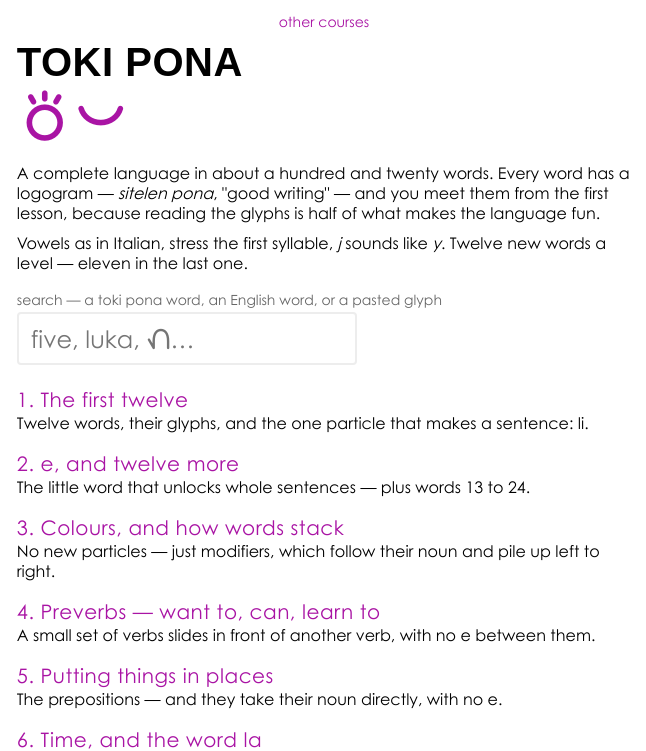
Test: toki pona › the search box finds a word by English gloss ("five" -> luka) and links its lesson
In the field labelled "search": (187, 338) [17,312,357,365], type "five"
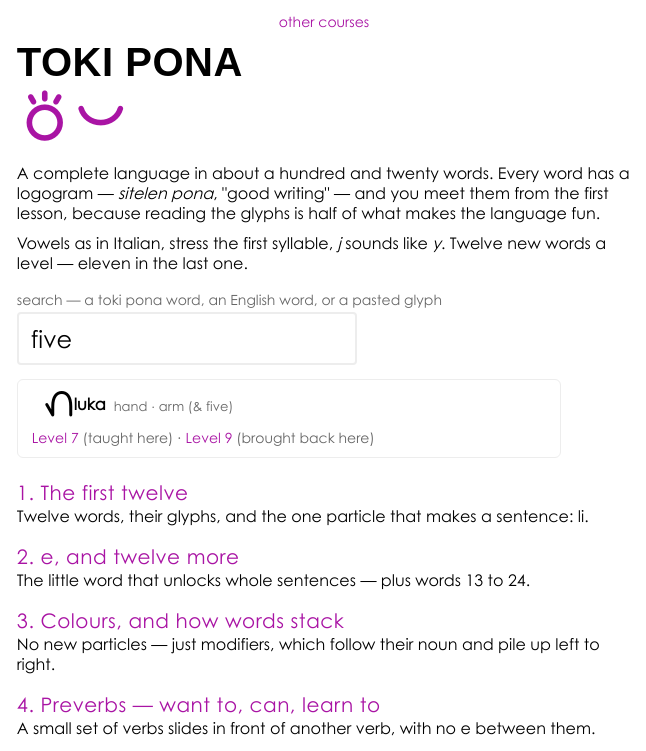
Check: the text "luka" is shown, box [74,394,106,414]
Check: the text "hand · arm (& five)" is shown, box [114,397,233,413]
